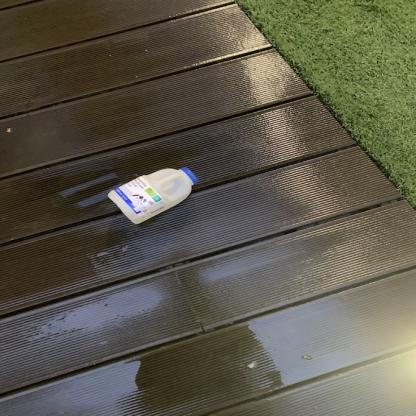trash: (106, 164, 200, 226)
